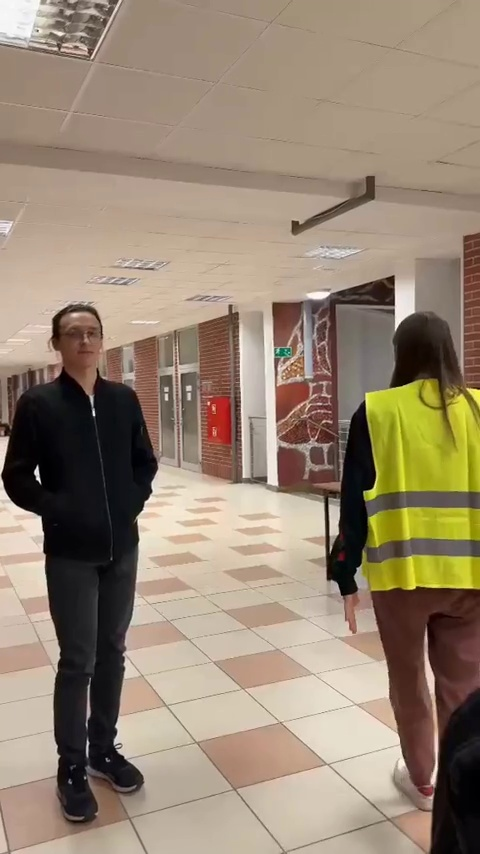no vest: (14, 298, 175, 825)
vest: (328, 308, 478, 819)
